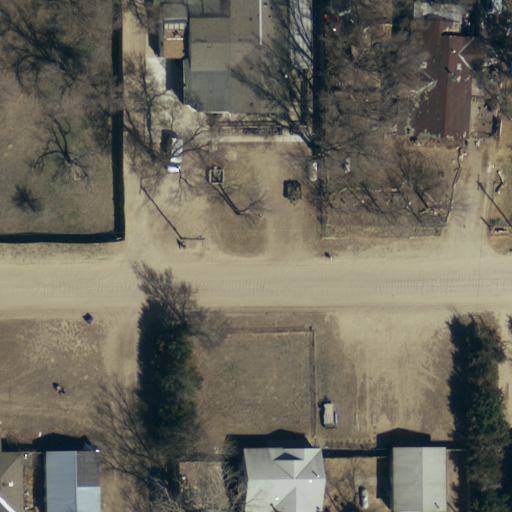DT: (175, 226, 213, 253)
